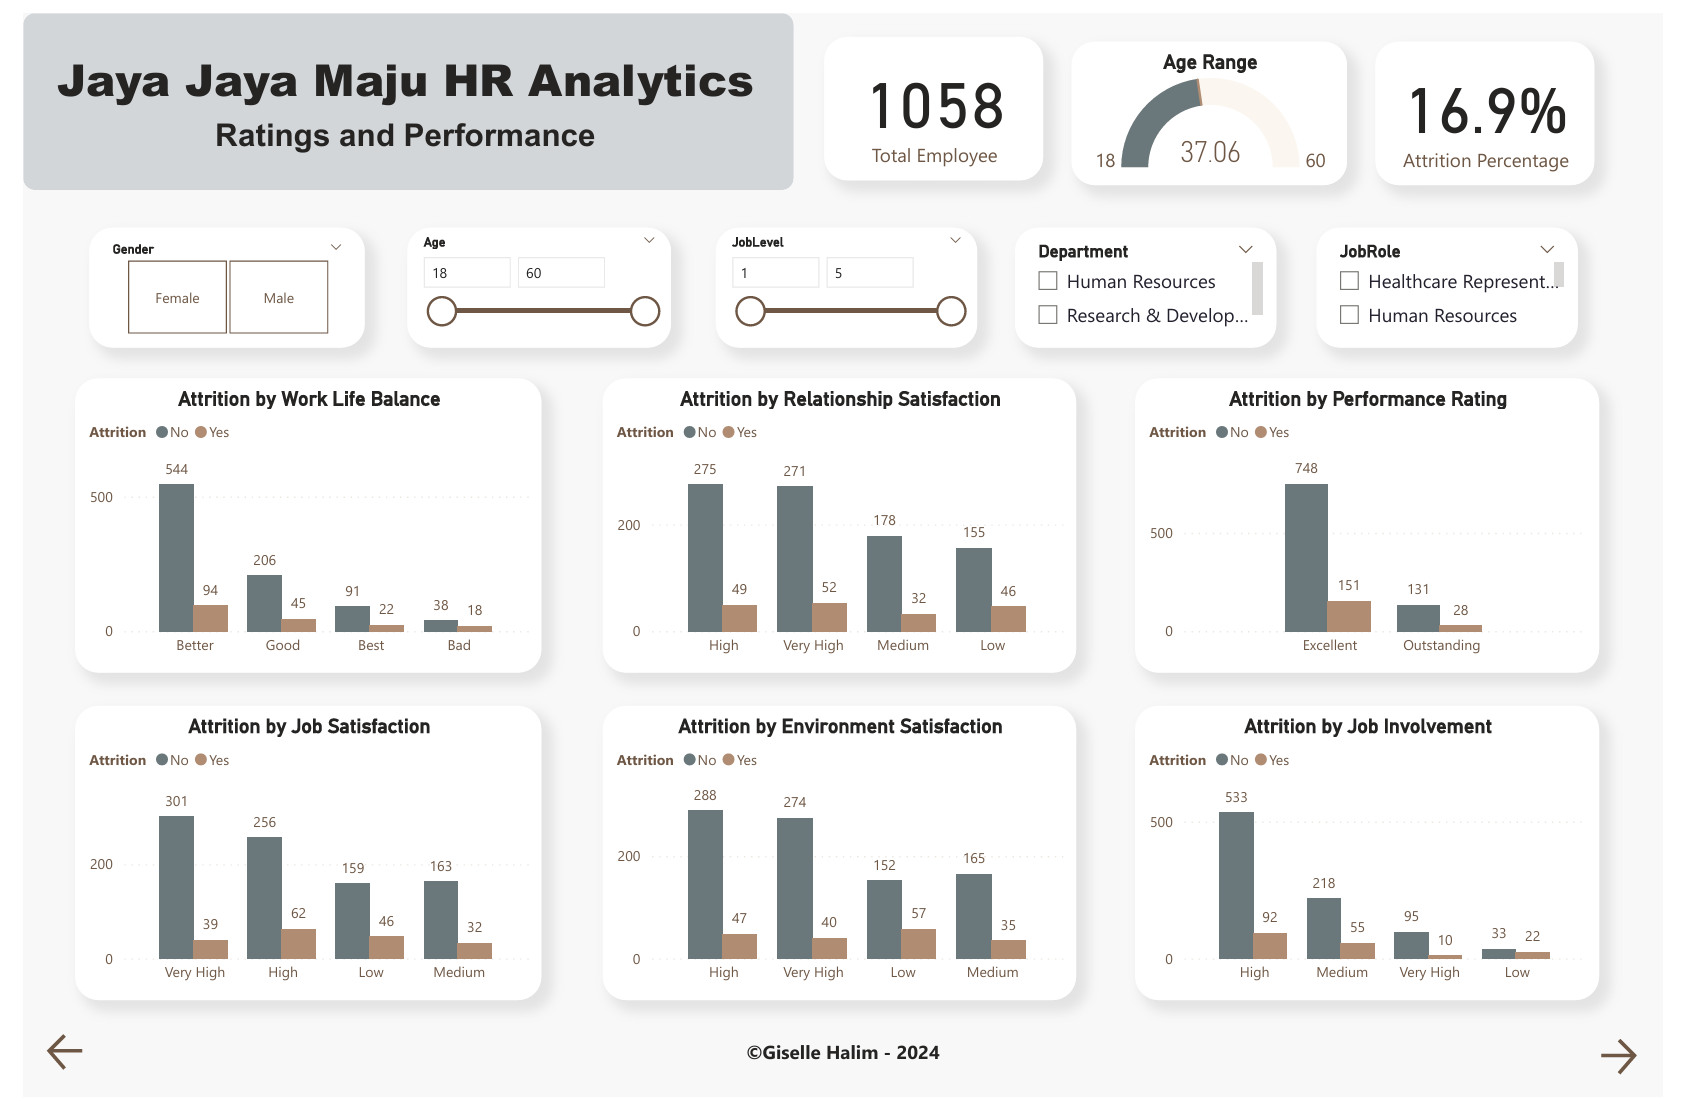

This screenshot's page, from the dashboard's own definition file:
{"tool":"powerbi","page":{"name":"HR Analytics [Ratings and Performance]","canvas":[1392,920],"ordinal":2},"visuals":[{"type":"actionButton","box":[16,862,42,40],"z":0},{"type":"shape","box":[0,0,654,150],"z":1000},{"type":"textbox","box":[158,84,366,58],"z":2000},{"type":"textbox","box":[24,24,660,68],"z":3000},{"type":"clusteredColumnChart","title":"Attrition by Job Satisfaction","fields":{"Category":["employee_data_clean.JobSatisfaction"],"Series":["employee_data_clean.Attrition"],"Y":["CountNonNull(employee_data_clean.EmployeeId)"]},"box":[44,588,396,250],"z":4000},{"type":"clusteredColumnChart","title":"Attrition by Environment Satisfaction","fields":{"Category":["employee_data_clean.EnvironmentSatisfaction"],"Series":["employee_data_clean.Attrition"],"Y":["CountNonNull(employee_data_clean.EmployeeId)"]},"box":[492,588,402,250],"z":5000},{"type":"clusteredColumnChart","title":"Attrition by Job Involvement","fields":{"Category":["employee_data_clean.JobInvolvement"],"Series":["employee_data_clean.Attrition"],"Y":["CountNonNull(employee_data_clean.EmployeeId)"]},"box":[944,588,394,250],"z":6000},{"type":"clusteredColumnChart","title":"Attrition by Work Life Balance","fields":{"Category":["employee_data_clean.WorkLifeBalance"],"Series":["employee_data_clean.Attrition"],"Y":["CountNonNull(employee_data_clean.EmployeeId)"]},"box":[44,310,396,250],"z":7000},{"type":"clusteredColumnChart","title":"Attrition by Relationship Satisfaction","fields":{"Category":["employee_data_clean.RelationshipSatisfaction"],"Series":["employee_data_clean.Attrition"],"Y":["CountNonNull(employee_data_clean.EmployeeId)"]},"box":[492,310,402,250],"z":8000},{"type":"clusteredColumnChart","title":"Attrition by Performance Rating","fields":{"Category":["employee_data_clean.PerformanceRating"],"Series":["employee_data_clean.Attrition"],"Y":["CountNonNull(employee_data_clean.EmployeeId)"]},"box":[944,310,394,250],"z":9000},{"type":"card","fields":{"Values":["CountNonNull(employee_data_clean.EmployeeId)"]},"box":[680,20,186,122],"z":10000},{"type":"card","fields":{"Values":["employee_data_clean.% Attrition"]},"box":[1148,24,186,122],"z":11000},{"type":"gauge","title":"Age Range","fields":{"Y":["Avg(employee_data_clean.Age)1"],"MinValue":["Min(employee_data_clean.Age)"],"MaxValue":["Max(employee_data_clean.Age)"],"TargetValue":["Avg(employee_data_clean.Age)1"]},"box":[890,24,234,122],"z":12000},{"type":"slicer","fields":{"Values":["employee_data_clean.Gender"]},"box":[56,182,234,102],"z":13000},{"type":"slicer","fields":{"Values":["employee_data_clean.JobLevel"]},"box":[588,182,222,102],"z":14000},{"type":"slicer","fields":{"Values":["employee_data_clean.Age"]},"box":[326,182,224,102],"z":15000},{"type":"slicer","fields":{"Values":["employee_data_clean.Department"]},"box":[842,182,222,102],"z":16000},{"type":"slicer","fields":{"Values":["employee_data_clean.JobRole"]},"box":[1098,182,222,102],"z":17000},{"type":"actionButton","box":[1334,866,44,40],"z":18000},{"type":"textbox","box":[596,866,200,40],"z":19000}]}

Visuals, with their boxes in screenshot pixels (x1, y1, x2, y2), scaled from the page's 1392x920 canvas onto the 1684x1115 screenshot:
actionButton: 19,1045,70,1093
shape: 0,0,791,182
textbox: 191,102,634,172
textbox: 29,29,827,112
"Attrition by Job Satisfaction" clusteredColumnChart: 53,713,532,1016
"Attrition by Environment Satisfaction" clusteredColumnChart: 595,713,1082,1016
"Attrition by Job Involvement" clusteredColumnChart: 1142,713,1619,1016
"Attrition by Work Life Balance" clusteredColumnChart: 53,376,532,679
"Attrition by Relationship Satisfaction" clusteredColumnChart: 595,376,1082,679
"Attrition by Performance Rating" clusteredColumnChart: 1142,376,1619,679
card - CountNonNull(employee_data_clean.EmployeeId): 823,24,1048,172
card - employee_data_clean.% Attrition: 1389,29,1614,177
"Age Range" gauge: 1077,29,1360,177
slicer - employee_data_clean.Gender: 68,221,351,344
slicer - employee_data_clean.JobLevel: 711,221,980,344
slicer - employee_data_clean.Age: 394,221,665,344
slicer - employee_data_clean.Department: 1019,221,1287,344
slicer - employee_data_clean.JobRole: 1328,221,1597,344
actionButton: 1614,1050,1667,1098
textbox: 721,1050,963,1098
